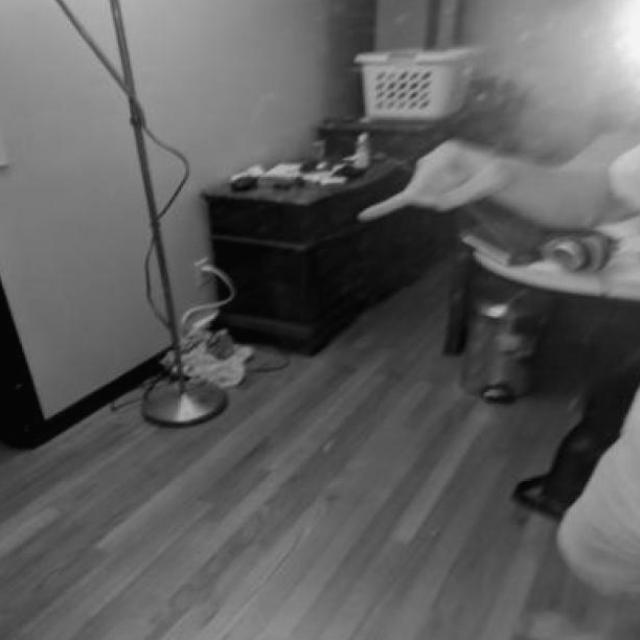J: (342, 133, 512, 229)
